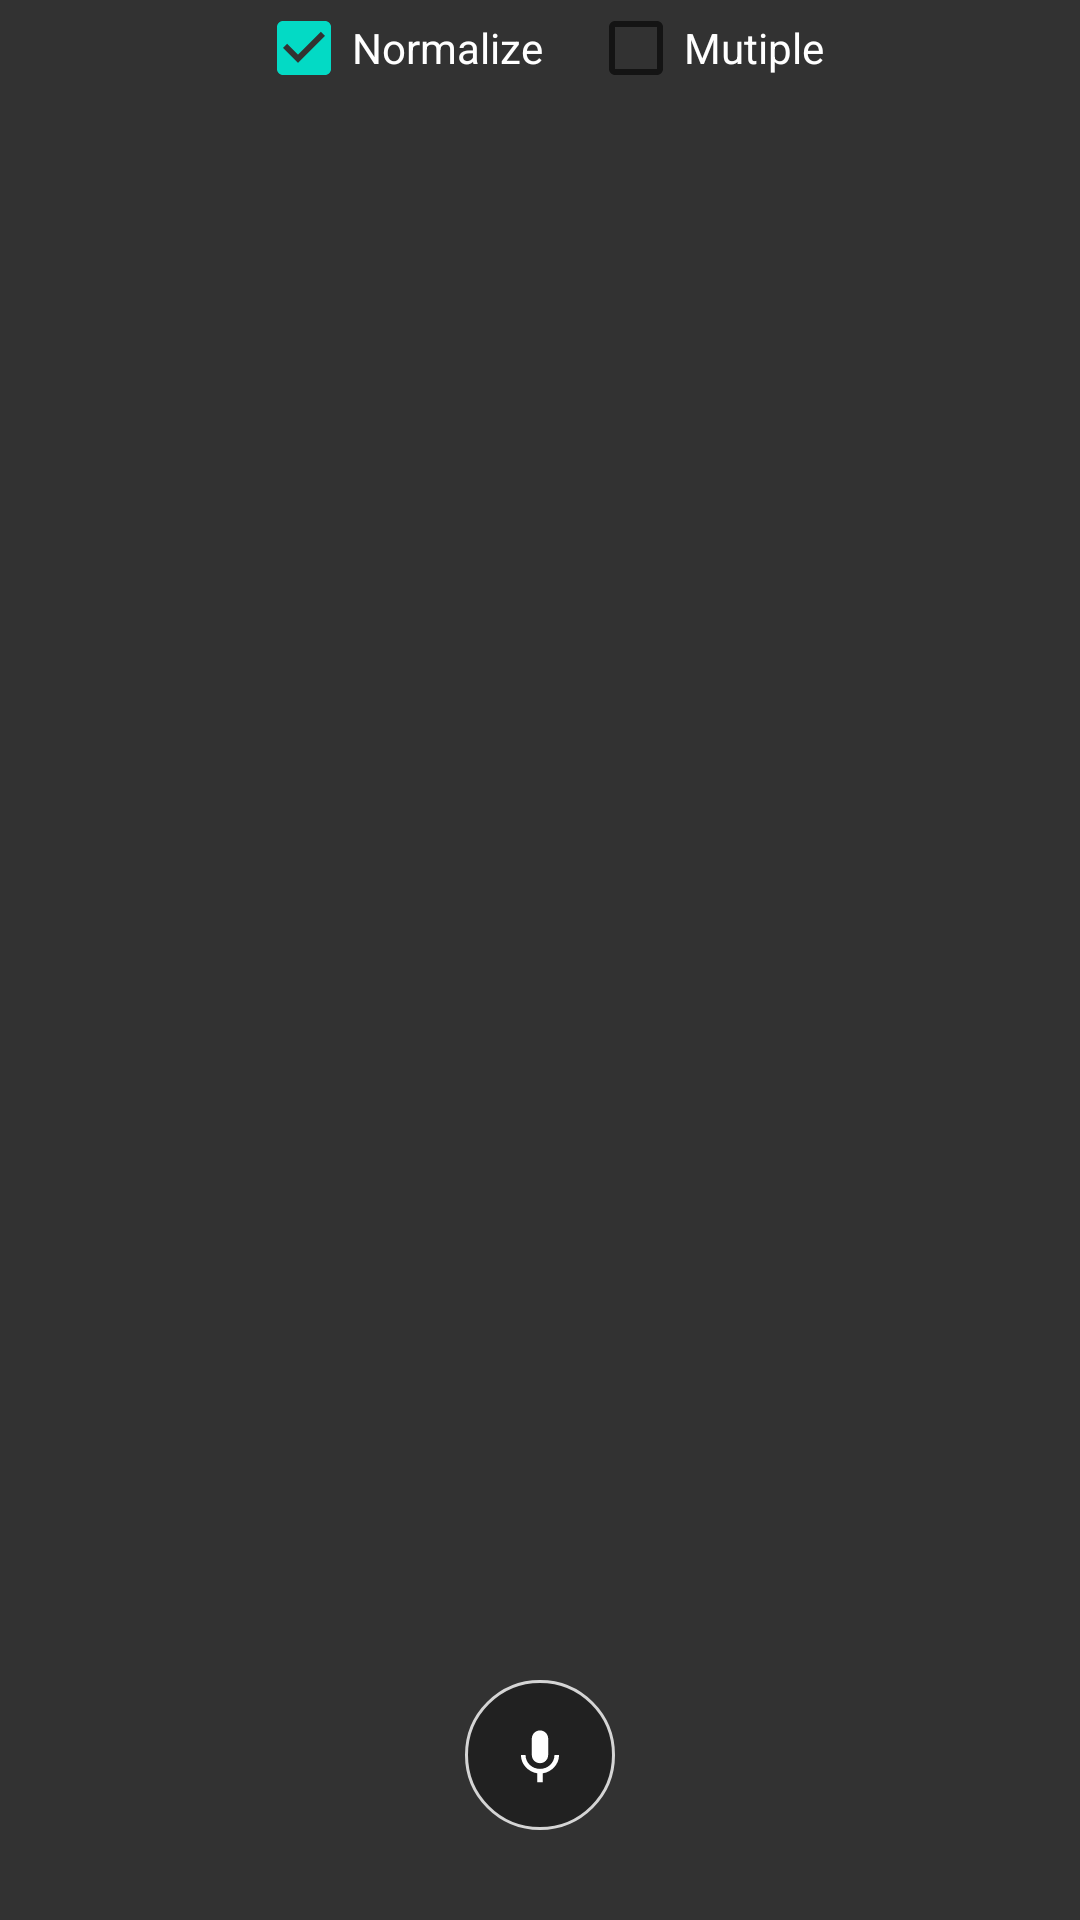

Icon bounding boxes for this 1080px x 1920px phone screenshot, format [x1=x1, y1=y1, x2=x2, y2=y2]:
voice: [x1=465, y1=1680, x2=615, y2=1830]
